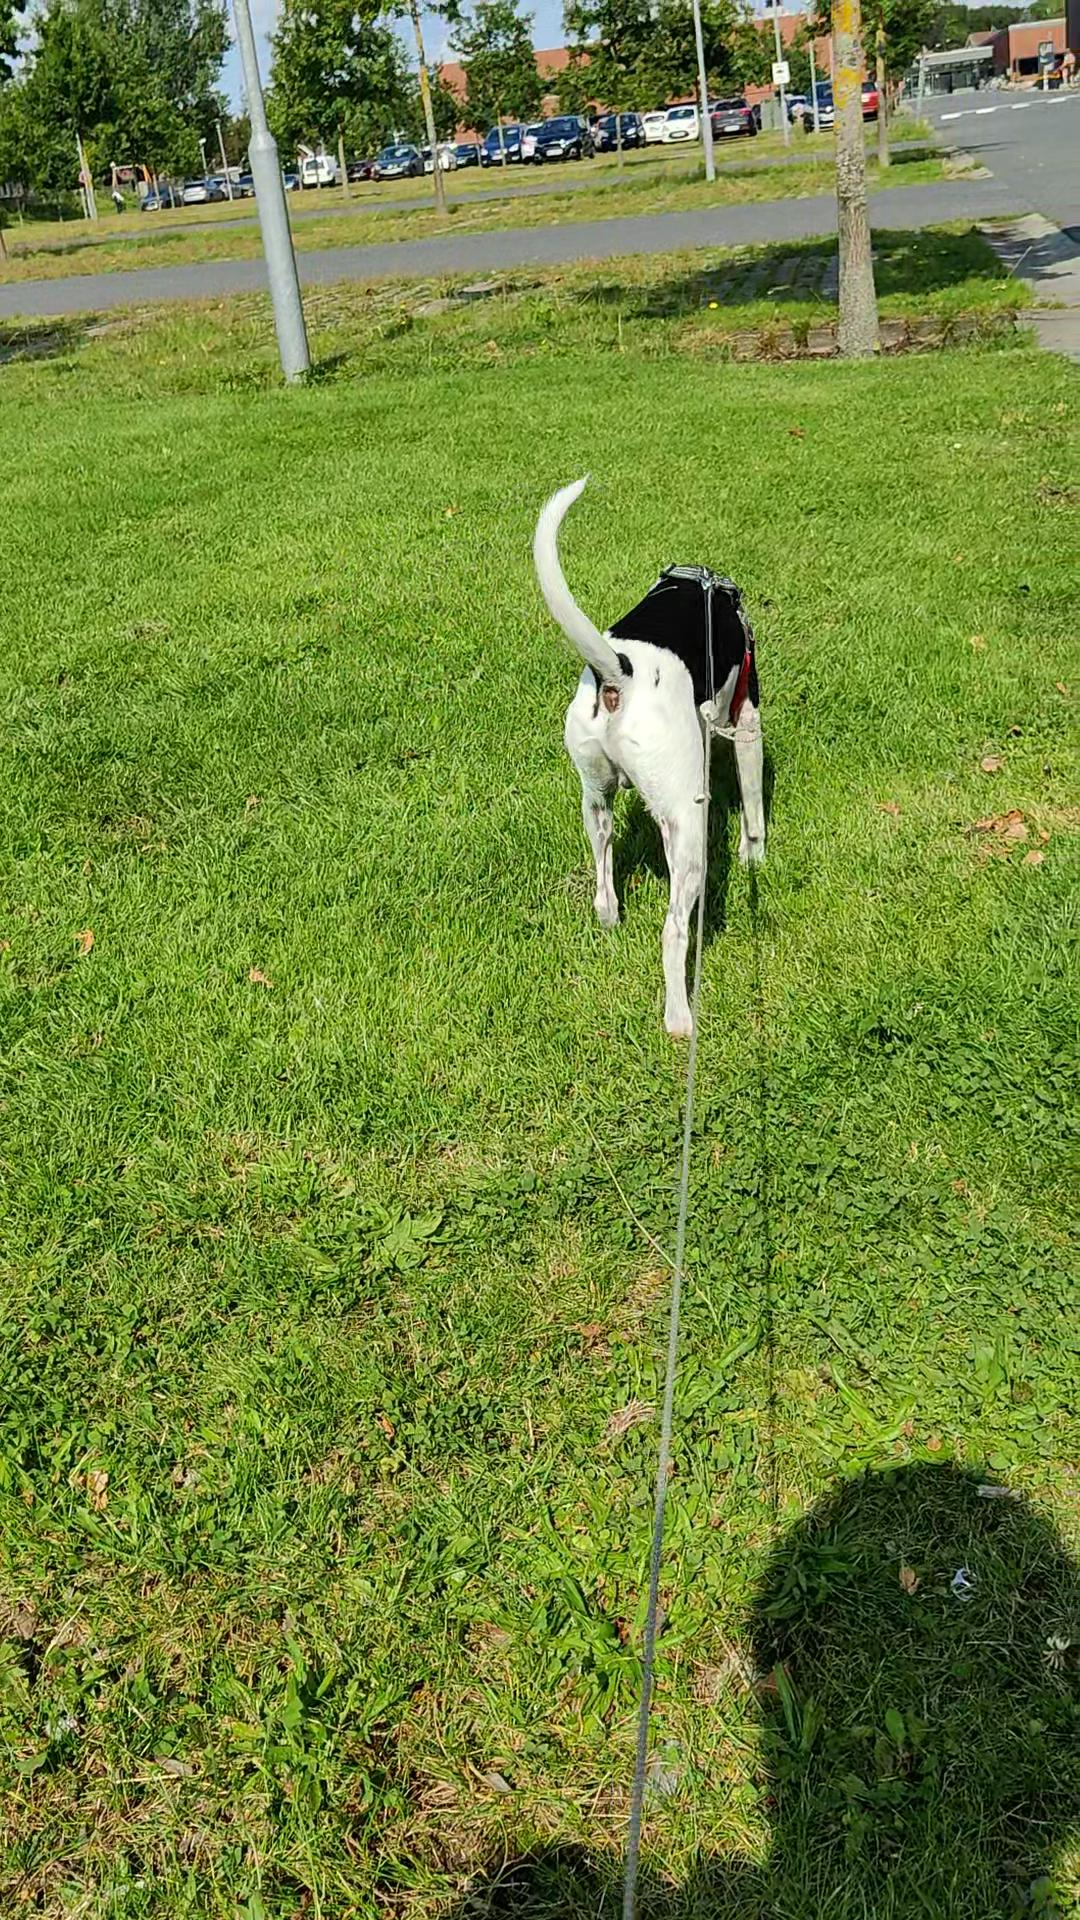Dog: (527, 468, 771, 1040)
